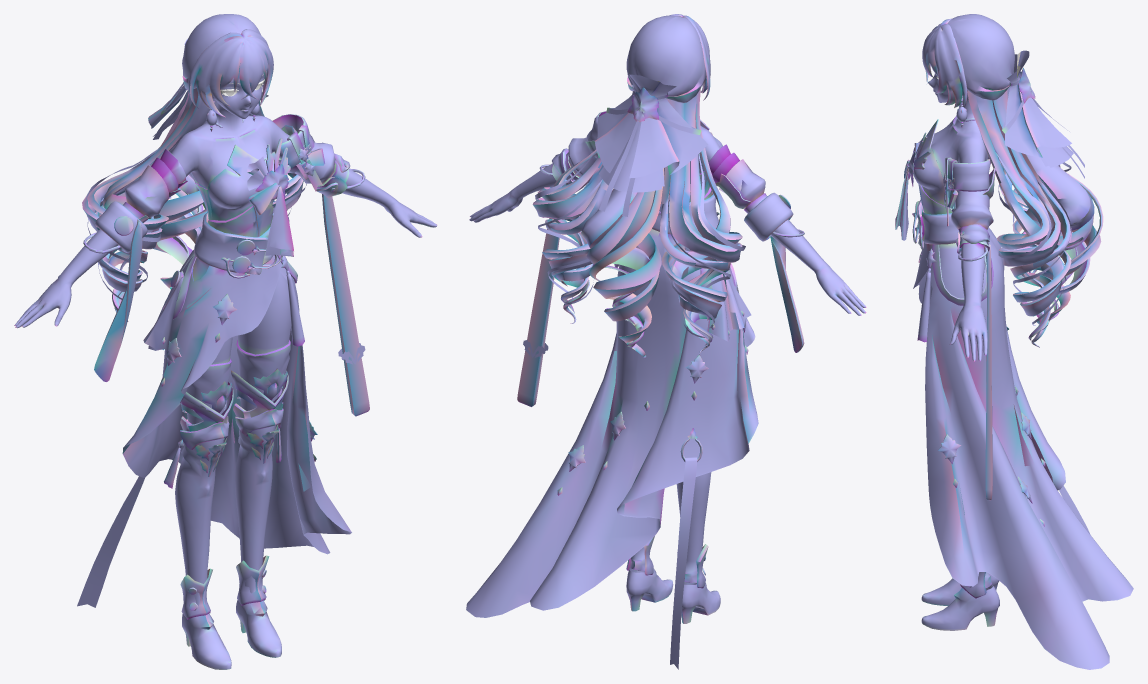
Rendered from 布洛妮娅.fbx.
3 views of the same model, side by side, from view 1: azimuth 30°, elevation 25°; view 2: azimuth 150°, elevation 25°; view 3: azimuth 270°, elevation 25° (orthographic). The views are drawn at different scales.
Visible parts, largest first — view 1: 布洛妮娅_mesh, 布洛妮娅_mesh_hair; view 2: 布洛妮娅_mesh, 布洛妮娅_mesh_hair; view 3: 布洛妮娅_mesh, 布洛妮娅_mesh_hair.
Boxes of the visible parts, x1,y1,x2,y2 form: 布洛妮娅_mesh: [14, 39, 437, 669]; 布洛妮娅_mesh_hair: [82, 14, 306, 321]; 布洛妮娅_mesh: [466, 74, 866, 669]; 布洛妮娅_mesh_hair: [532, 14, 745, 358]; 布洛妮娅_mesh: [895, 50, 1133, 669]; 布洛妮娅_mesh_hair: [922, 14, 1103, 347].
Size of the model in its own units: 116 by 165 by 60.03.
